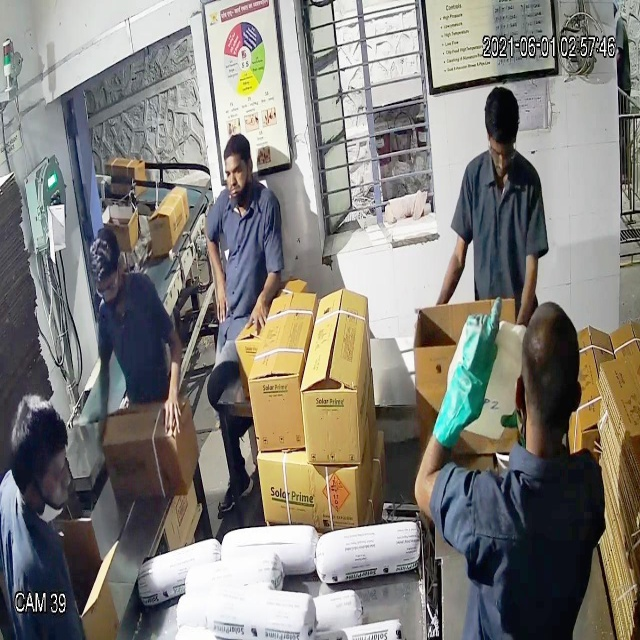Sin_gafas: (220, 156, 258, 187)
